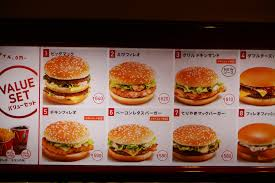hamburger: (44, 53, 92, 104), (41, 119, 96, 163), (109, 59, 159, 104), (174, 65, 223, 104), (108, 122, 157, 161), (173, 123, 219, 162), (238, 66, 275, 105), (238, 123, 275, 162)
